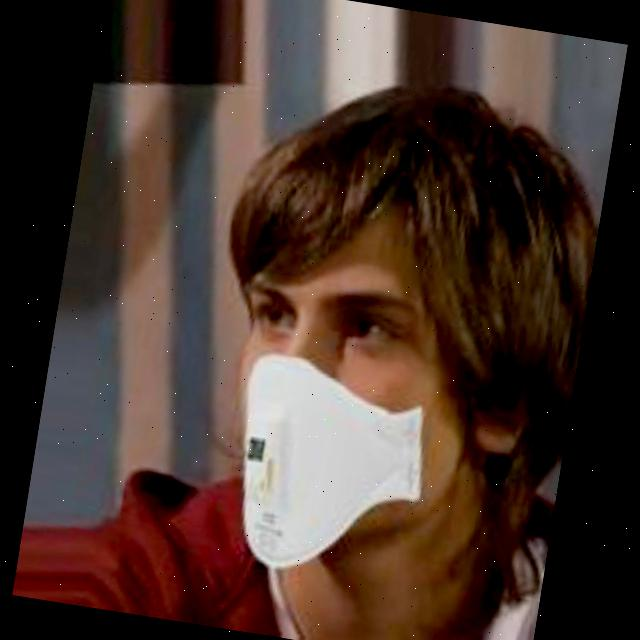suspicion: (179, 153, 531, 609)
